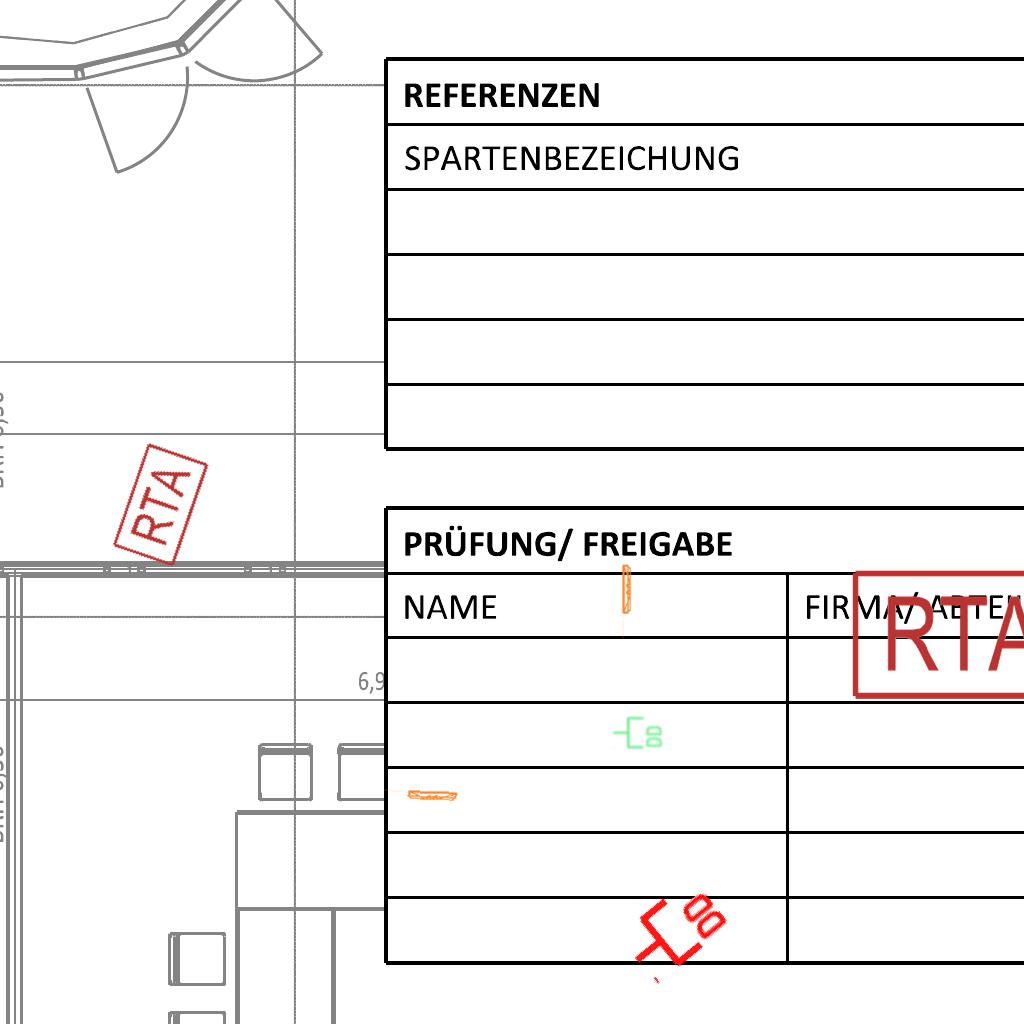Datenanschluss_zweifach: (611, 869, 736, 988), (612, 716, 663, 750)
Ruf-und_Abstelltaster: (845, 566, 1024, 704), (109, 440, 212, 572)
Sicherheitsleuchte_Wandeinbau: (380, 788, 460, 803), (621, 562, 633, 641)
